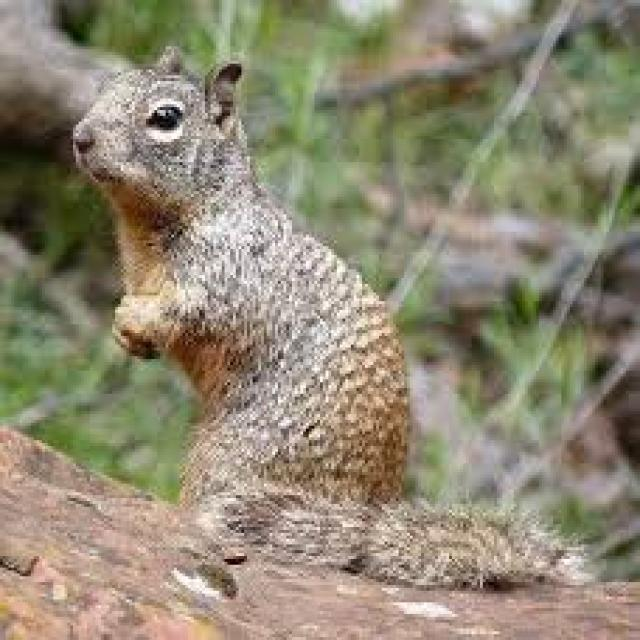squirrel: (73, 49, 559, 585)
